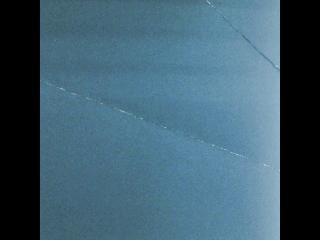crack: (40, 79, 280, 172), (205, 0, 280, 71)
